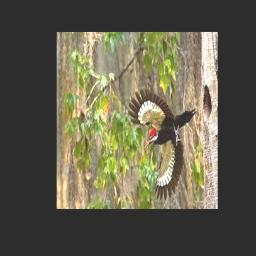Woodpecker: (126, 87, 196, 199)
